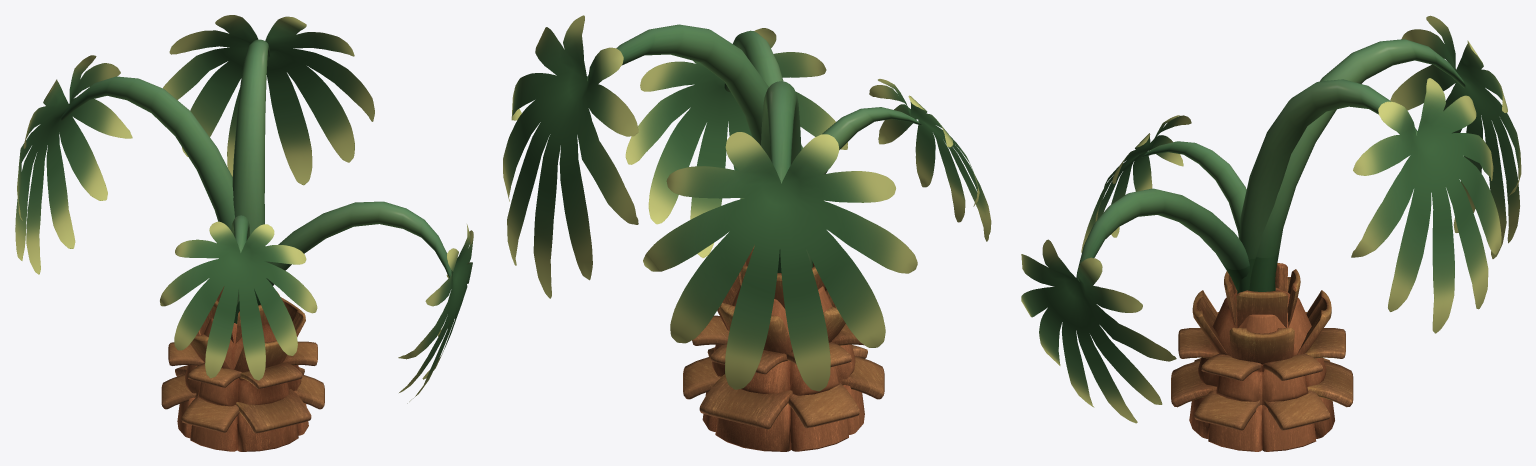
The model's file is BismarckPalm_2.fbx.
3 renders of one model, left to right at view 1: azimuth 30°, elevation 25°; view 2: azimuth 150°, elevation 25°; view 3: azimuth 270°, elevation 25°, orthographic. The views are drawn at different scales.
Visible parts, largest first — view 1: Object001, Object004, Object003, Object007, BismarckPalm_1_low, Object006, BismarchPalm_4_low002, Object005, Object002, BismarchPalm_5_low, BismarchPalm_3_low002, Object008; view 2: Object003, Object001, Object002, BismarchPalm_4_low002, BismarckPalm_1_low, Object006, Object004, Object007, BismarchPalm_5_low, BismarchPalm_3_low002, Object008, Object005 (+1 smaller); view 3: Object001, Object002, BismarckPalm_1_low, Object003, Object006, Object007, BismarchPalm_4_low002, Object005, BismarchPalm_5_low, BismarchPalm_3_low002, Object004, BismarchPalm_2_low001 (+1 smaller).
Part boxes in pixels (left/top/right/bottom): Object001: left=163, top=15, right=374, bottom=185; Object004: left=160, top=221, right=317, bottom=380; Object003: left=15, top=55, right=132, bottom=274; Object007: left=61, top=76, right=234, bottom=229; BismarckPalm_1_low: left=177, top=318, right=308, bottom=451; Object006: left=232, top=39, right=269, bottom=246; BismarchPalm_4_low002: left=161, top=365, right=324, bottom=433; Object005: left=234, top=201, right=451, bottom=323; Object002: left=398, top=224, right=473, bottom=403; BismarchPalm_5_low: left=168, top=333, right=317, bottom=388; BismarchPalm_3_low002: left=190, top=297, right=305, bottom=372; Object008: left=231, top=215, right=249, bottom=305; Object003: left=643, top=132, right=917, bottom=391; Object001: left=503, top=15, right=638, bottom=298; Object002: left=625, top=28, right=847, bottom=257; BismarchPalm_4_low002: left=683, top=345, right=884, bottom=429; BismarckPalm_1_low: left=702, top=285, right=864, bottom=451; Object006: left=587, top=24, right=781, bottom=273; Object004: left=869, top=79, right=991, bottom=241; Object007: left=761, top=81, right=801, bottom=183; BismarchPalm_5_low: left=692, top=315, right=864, bottom=374; BismarchPalm_3_low002: left=717, top=274, right=845, bottom=353; Object008: left=806, top=107, right=921, bottom=267; Object005: left=724, top=30, right=813, bottom=267; Object001: left=1351, top=78, right=1501, bottom=333; Object002: left=1021, top=239, right=1176, bottom=423; BismarckPalm_1_low: left=1189, top=288, right=1334, bottom=451; Object003: left=1390, top=15, right=1521, bottom=258; Object006: left=1238, top=79, right=1417, bottom=292; Object007: left=1237, top=39, right=1465, bottom=293; BismarchPalm_4_low002: left=1171, top=358, right=1353, bottom=430; Object005: left=1076, top=188, right=1249, bottom=290; BismarchPalm_5_low: left=1178, top=312, right=1345, bottom=380; BismarchPalm_3_low002: left=1192, top=277, right=1331, bottom=364; Object004: left=1081, top=115, right=1191, bottom=252; BismarchPalm_2_low001: left=1224, top=263, right=1300, bottom=327.
Bounding box in the file's own units: 3.34 × 3.2 × 3.84.
